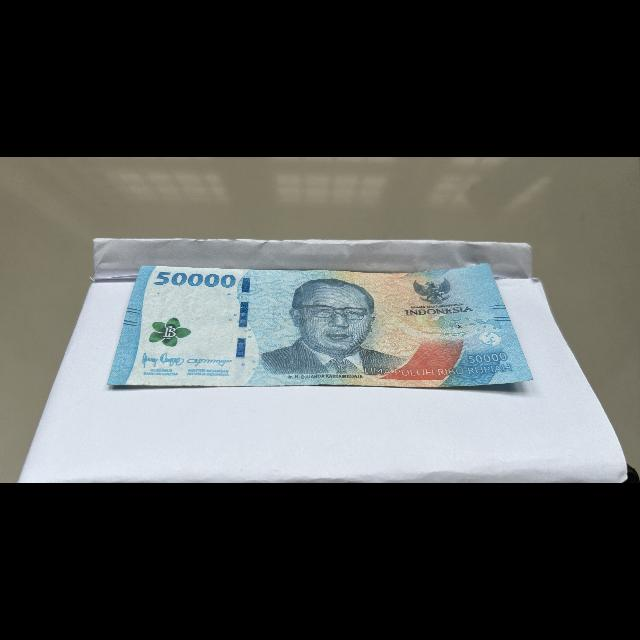Palsu-50k: (104, 262, 540, 391)
Tinta-Palsu-50k: (145, 314, 195, 351)
